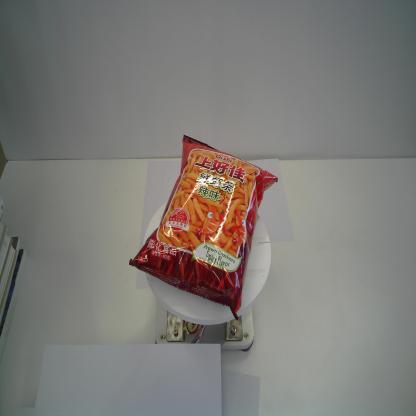Puffed Food: (128, 134, 279, 321)
